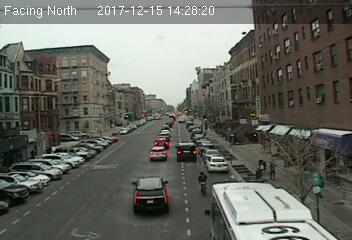bicycle: (198, 170, 207, 197)
bus: (209, 181, 334, 240)
car: (131, 176, 172, 212), (175, 141, 197, 162), (205, 156, 229, 173), (148, 146, 167, 161), (154, 137, 169, 146)
pedestrian: (265, 157, 278, 181)
